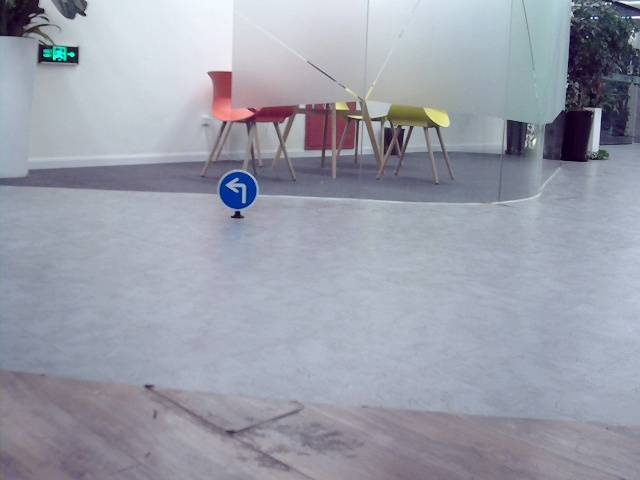turn_left: (226, 174, 249, 202)
